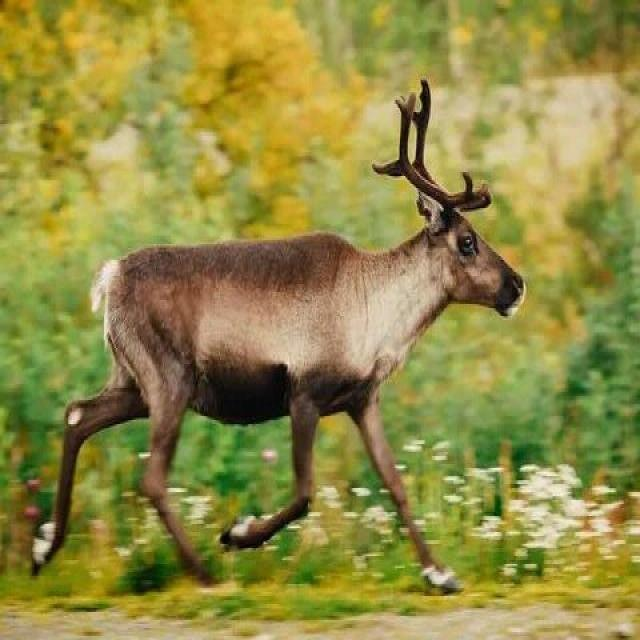deer: (36, 78, 572, 578)
